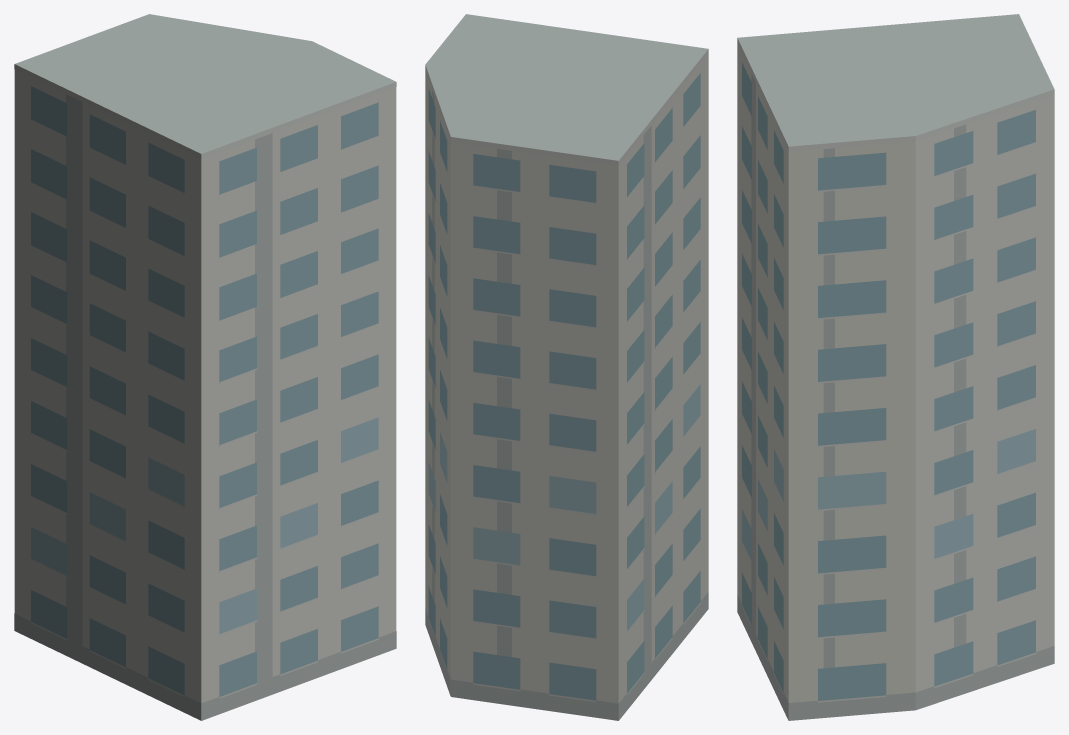
The model's file is residential-7015fceb-cb0e-424c-a2f6-85d9d83903f7.glb.
3 renders of one model, left to right at view 1: azimuth 30°, elevation 25°; view 2: azimuth 150°, elevation 25°; view 3: azimuth 270°, elevation 25°, orthographic. The views are drawn at different scales.
Parts seen in each view (by area): view 1: residential-7015fceb-cb0e-424c-a2f6-85d9d83903f7.tmp; view 2: residential-7015fceb-cb0e-424c-a2f6-85d9d83903f7.tmp; view 3: residential-7015fceb-cb0e-424c-a2f6-85d9d83903f7.tmp.
Boxes of the visible parts, bbox=[...] form: residential-7015fceb-cb0e-424c-a2f6-85d9d83903f7.tmp: bbox=[14, 14, 396, 720]; residential-7015fceb-cb0e-424c-a2f6-85d9d83903f7.tmp: bbox=[425, 14, 708, 720]; residential-7015fceb-cb0e-424c-a2f6-85d9d83903f7.tmp: bbox=[737, 14, 1054, 720].
Bounding box in the file's own units: 12.88 × 26 × 13.03.
